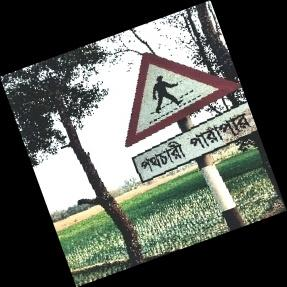Pedestrian-crossing: (124, 53, 260, 184)
